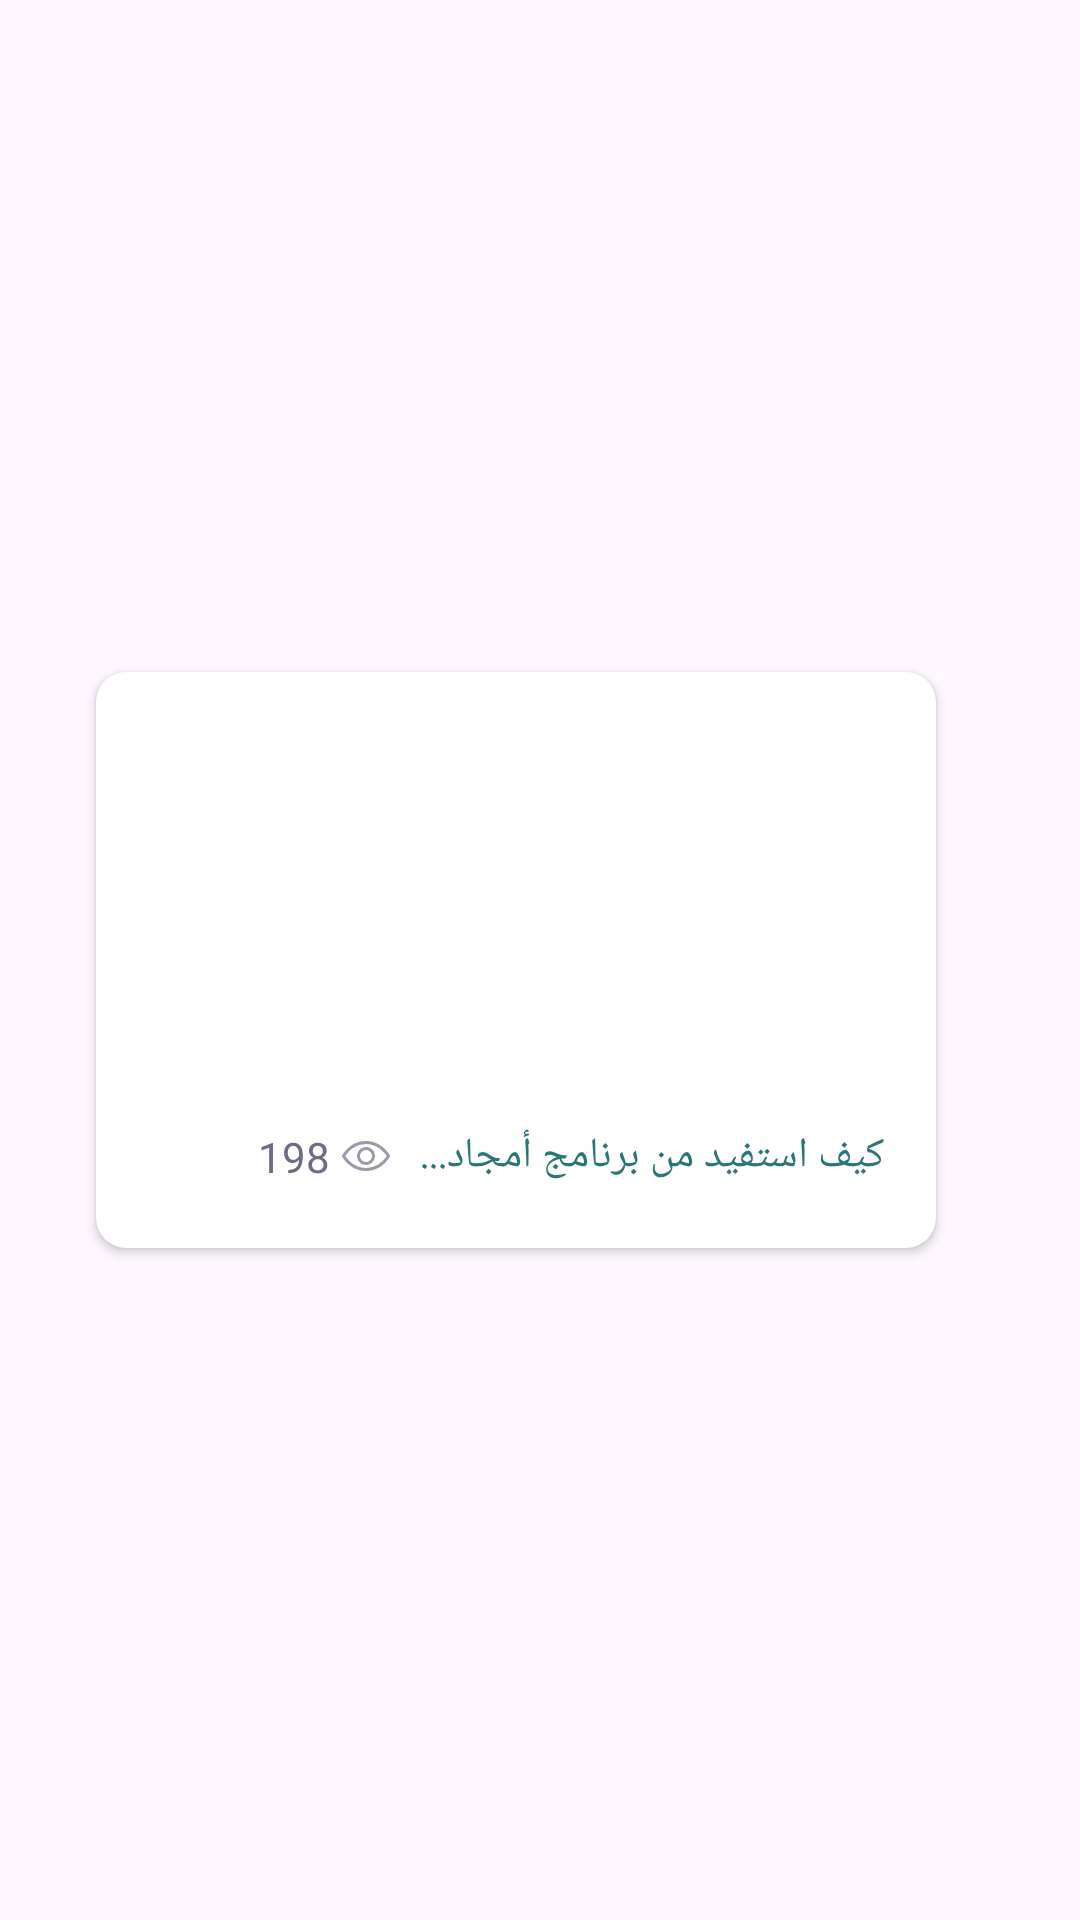

Icons on this 1080*1920 Android screen, each with the point to tap as [x,y]:
views: [366,1156]
